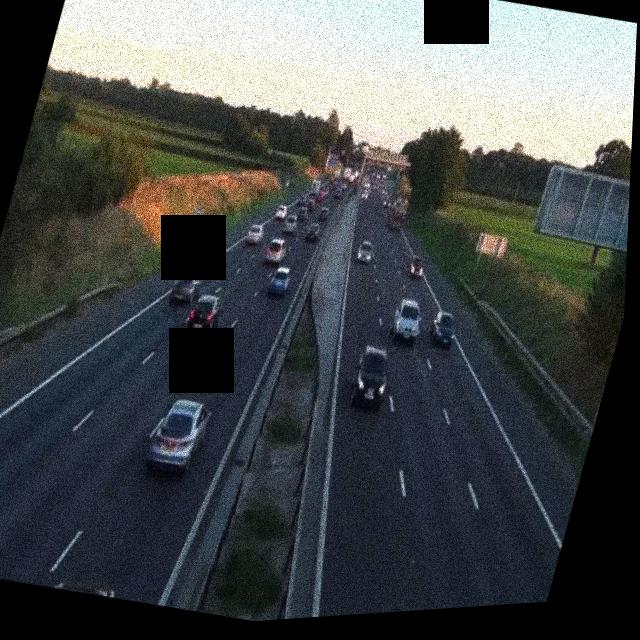car: (143, 392, 213, 480), (345, 342, 396, 411), (42, 572, 118, 603), (386, 293, 428, 346), (183, 289, 224, 339), (168, 264, 206, 308), (425, 307, 459, 350), (265, 263, 292, 298), (263, 237, 287, 265), (243, 220, 266, 247), (353, 238, 375, 265), (406, 255, 425, 277), (303, 222, 320, 244), (272, 202, 289, 222), (283, 216, 299, 236), (294, 205, 308, 224), (316, 205, 330, 222), (335, 186, 347, 200)
truck: (387, 204, 407, 230)
